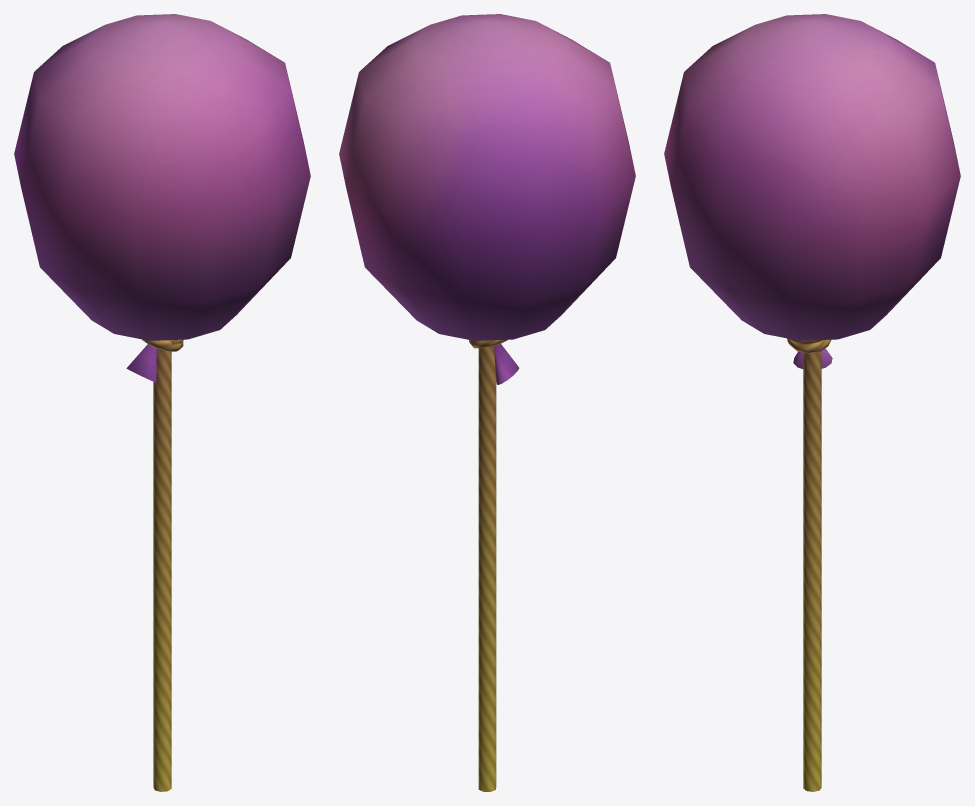
Rendered from SE_Baloon_04.fbx.
The picture shows the model from 3 angles, left to right: view 1: azimuth 30°, elevation 25°; view 2: azimuth 150°, elevation 25°; view 3: azimuth 270°, elevation 25°; orthographic projection.
Parts seen in each view (by area): view 1: SE_Baloon_04; view 2: SE_Baloon_04; view 3: SE_Baloon_04.
Part boxes in pixels (x1,y1,x2,y2): SE_Baloon_04: (14, 14, 310, 791); SE_Baloon_04: (339, 14, 635, 791); SE_Baloon_04: (664, 14, 960, 791).
Size of the model in its own units: 1.81 by 5.14 by 1.81.
